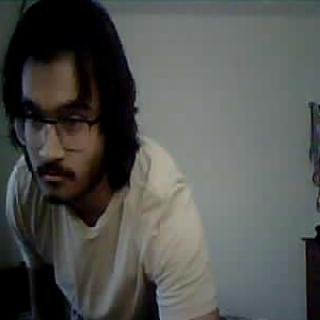Yellow T-Shirt: (4, 188, 221, 320)
